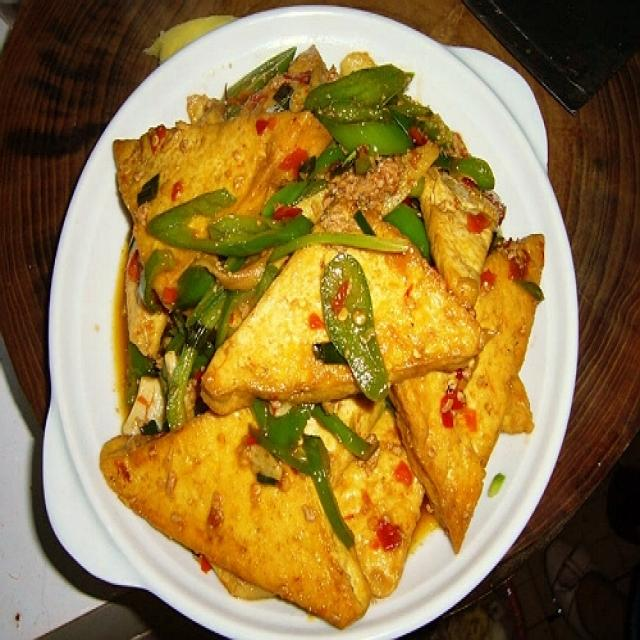豆腐料理: (54, 11, 563, 632)
